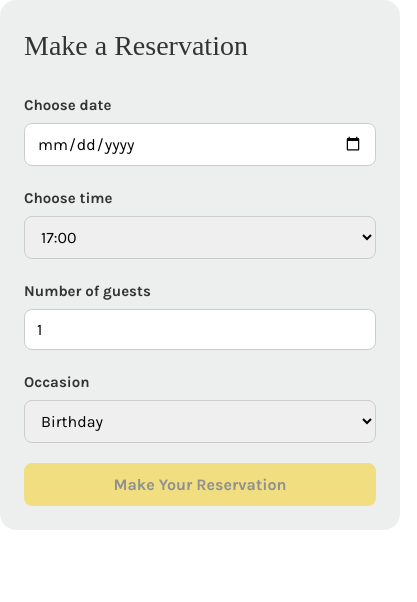
Test case: guests validation › clears guests error when valid number is entered
Step 1. Replace the text in the number field labelled "Number of guests" with "0" → (200, 329), box [24, 309, 376, 350]
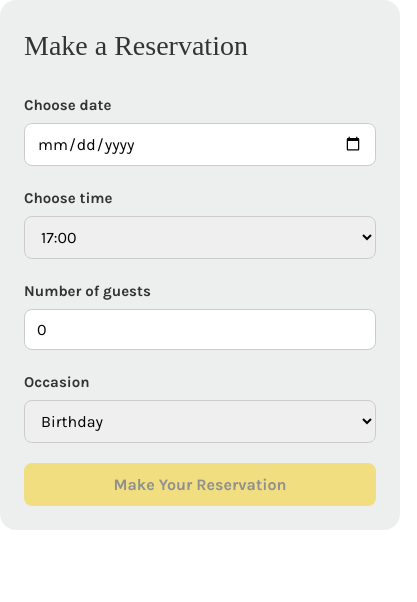
Step 2. Submit the form named "reservation form"
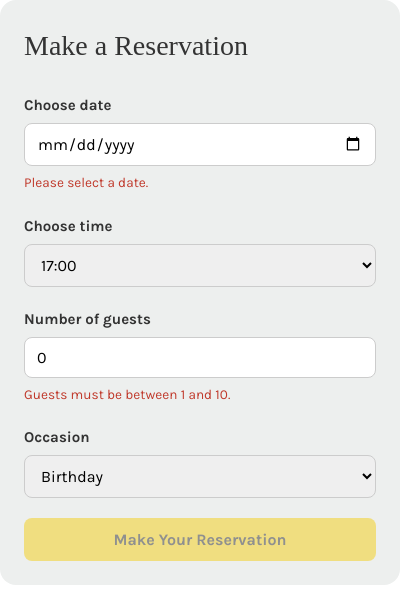
Check: the text "Guests must be between 1 and 10." is shown, box [24, 386, 230, 402]
Step 3. Replace the text in the number field labelled "Number of guests" with "3" → (200, 357), box [24, 336, 376, 378]
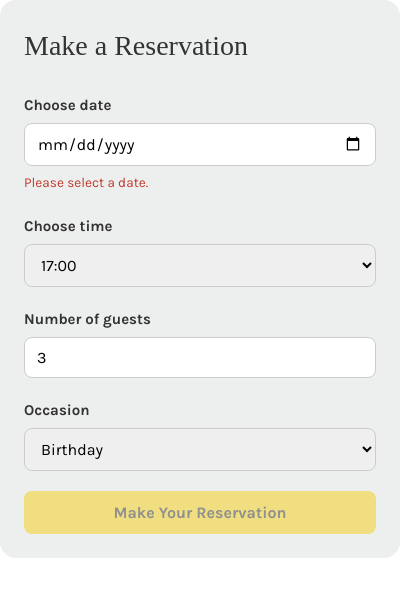
Check: the text "Guests must be between 1 and 10" is gone
